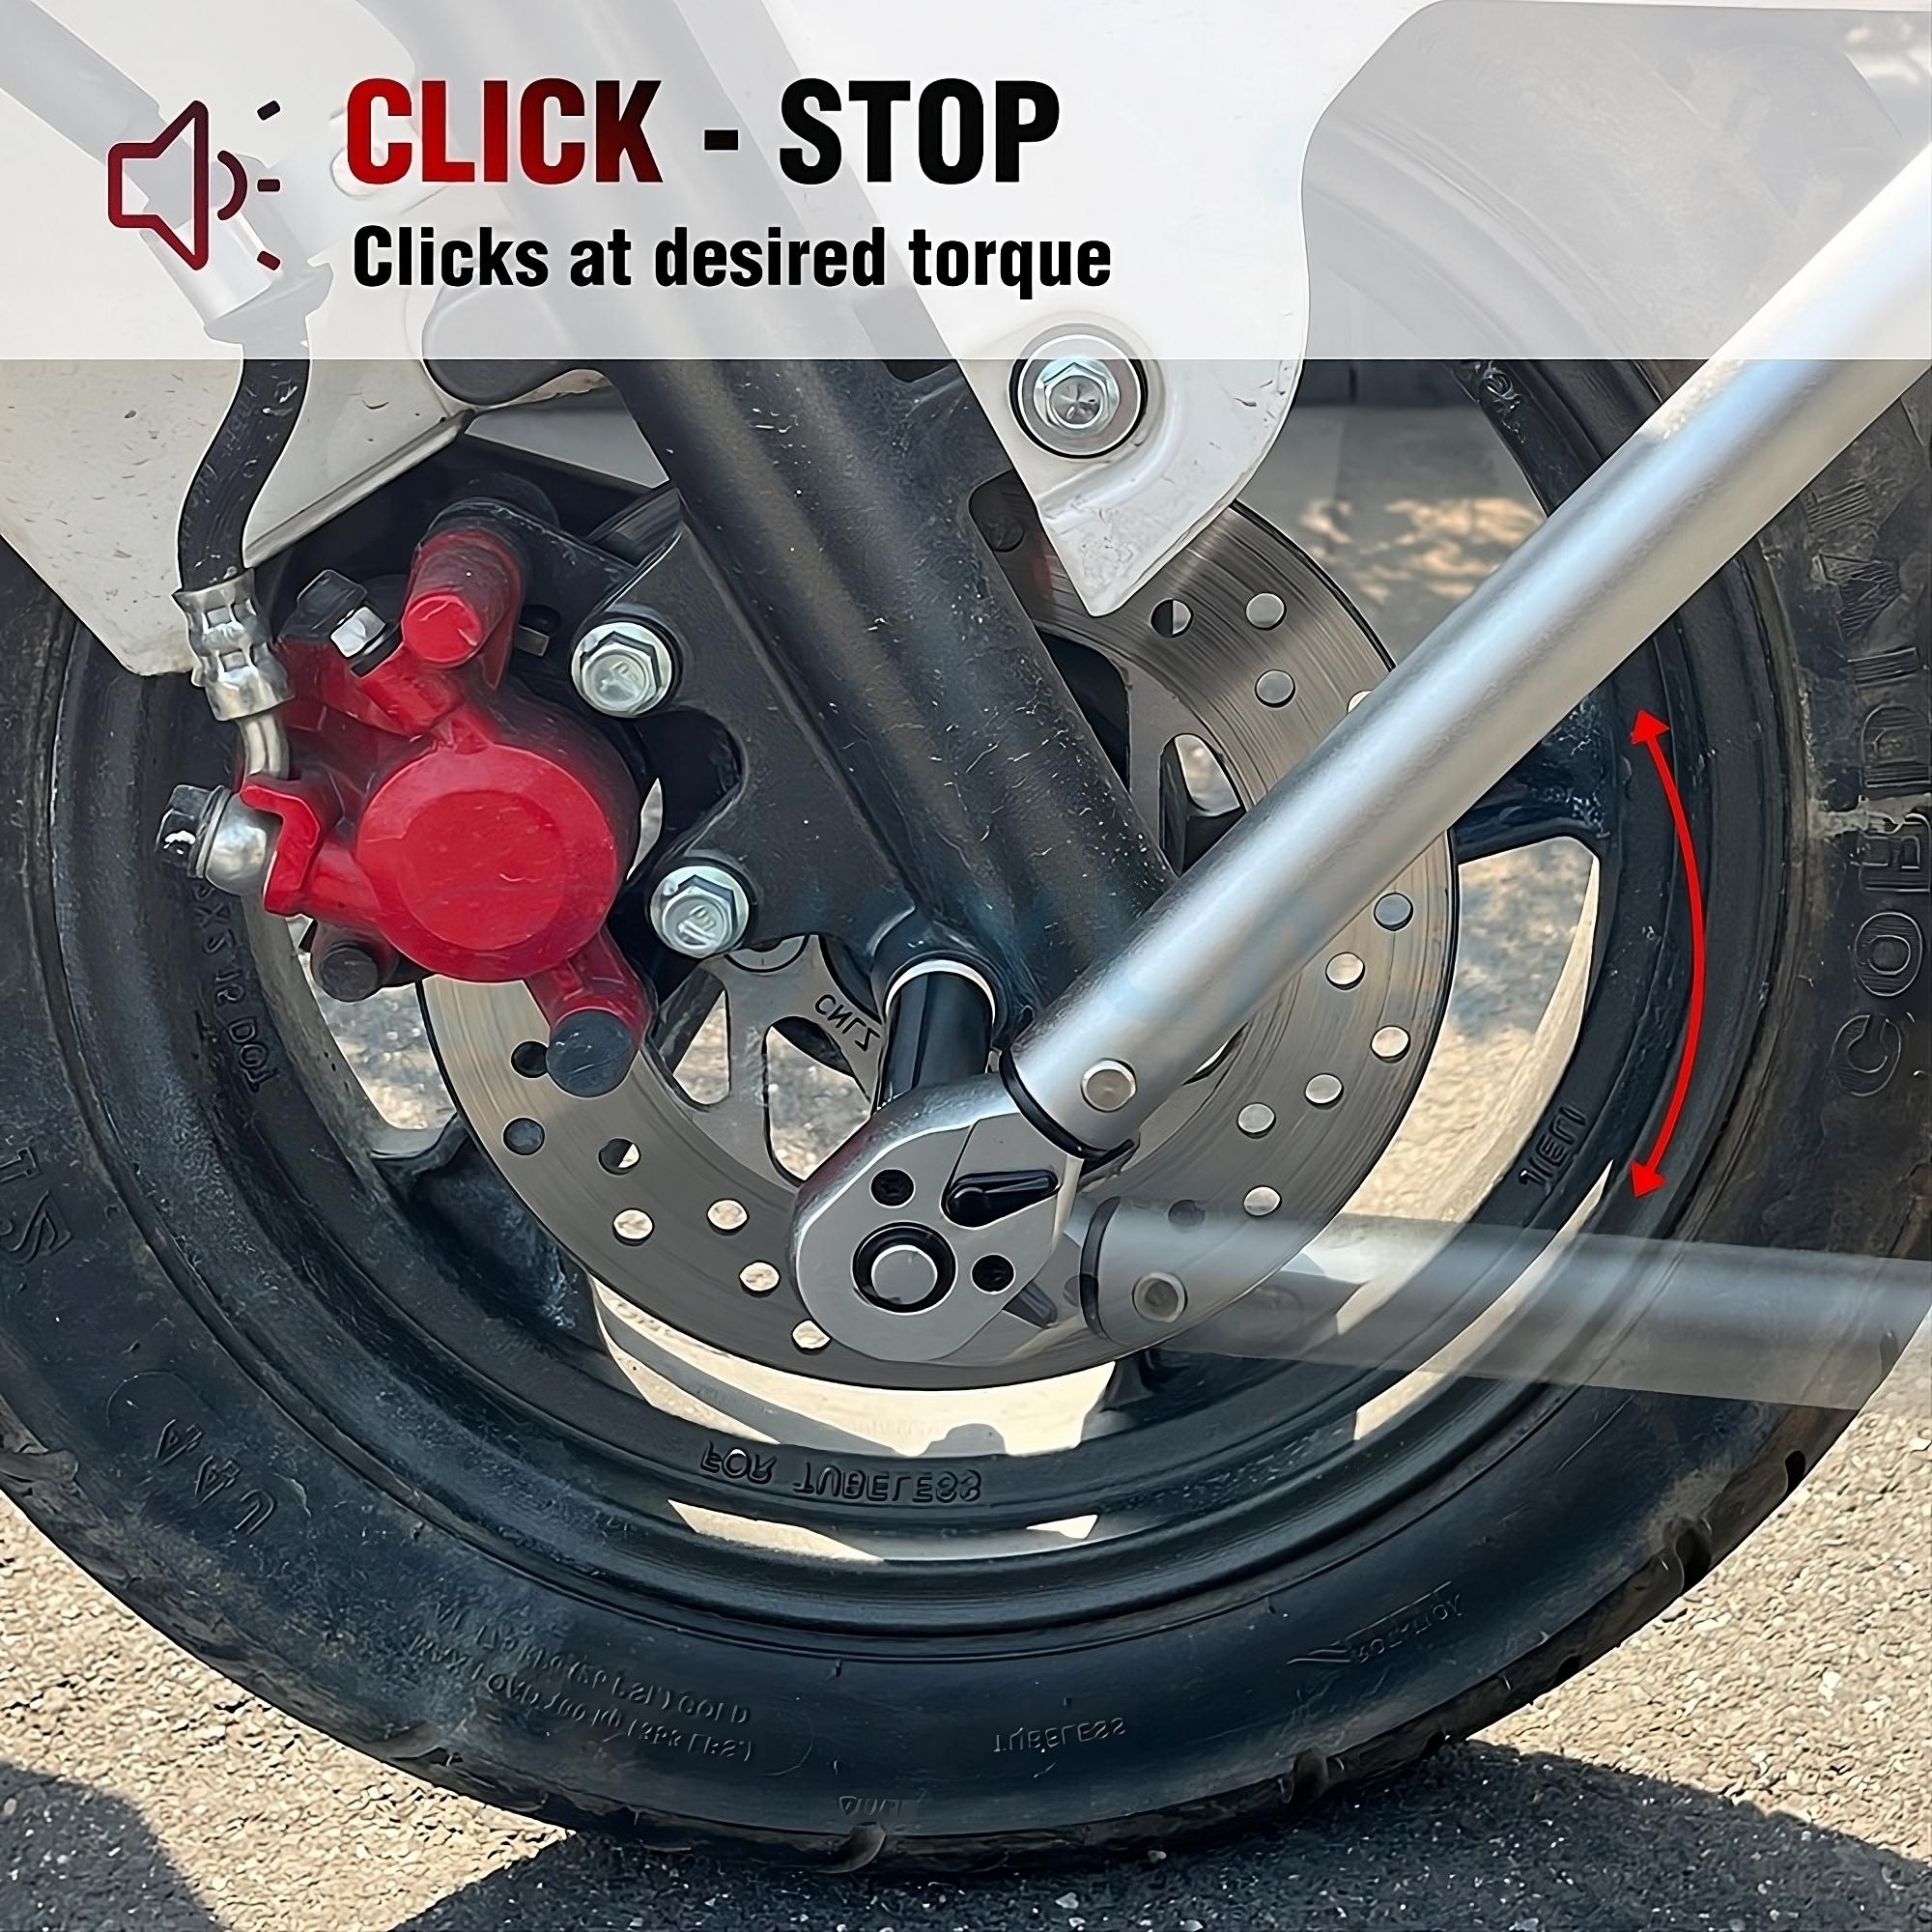Tool: (787, 1076, 1079, 1384)
